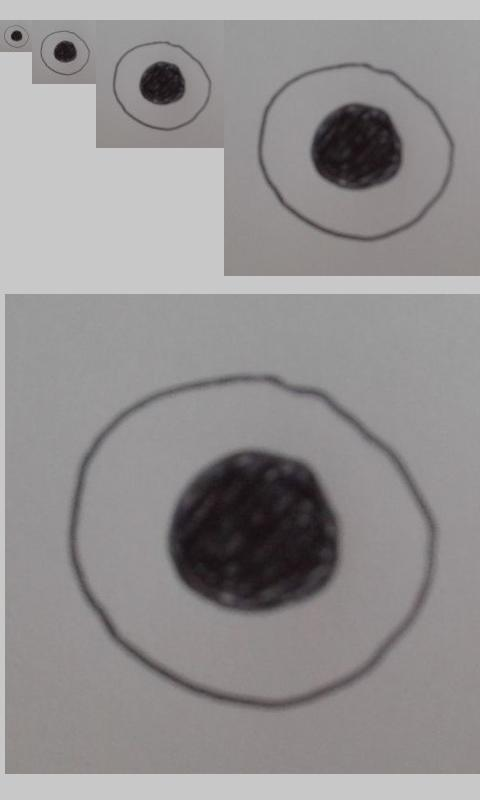radio_button: (66, 370, 440, 712), (254, 57, 458, 246), (112, 40, 212, 131), (39, 30, 91, 76), (3, 24, 30, 48)
